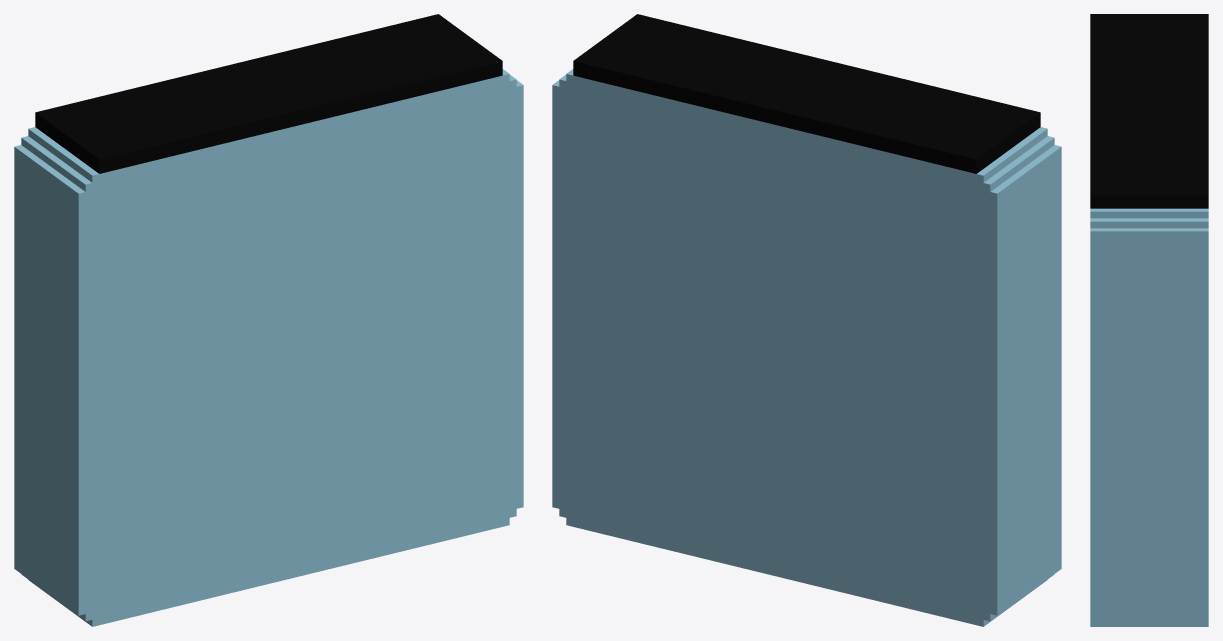
The model's file is buzdolabi_alt_kisim_SADE.fbx.
3 renders of one model, left to right at view 1: azimuth 30°, elevation 25°; view 2: azimuth 150°, elevation 25°; view 3: azimuth 270°, elevation 25°, orthographic. The views are drawn at different scales.
Visible parts, largest first — view 1: generated; view 2: generated; view 3: generated.
Part boxes in pixels (x1,y1,x2,y2): generated: (14,14,523,626); generated: (552,14,1061,626); generated: (1090,14,1208,626).
Bounding box in the file's own units: 640 × 640 × 160.
